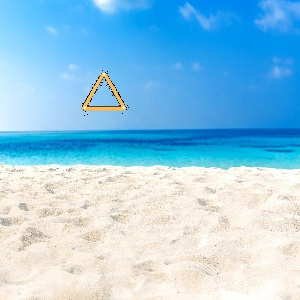triangle: (80, 69, 129, 112)
